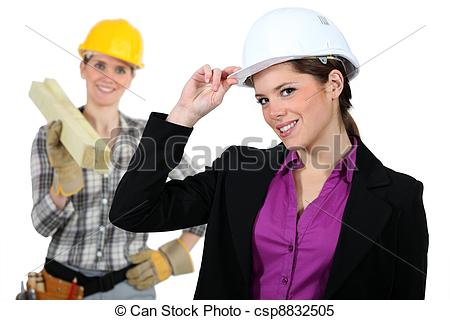casco: (225, 6, 361, 89), (77, 18, 146, 71)
